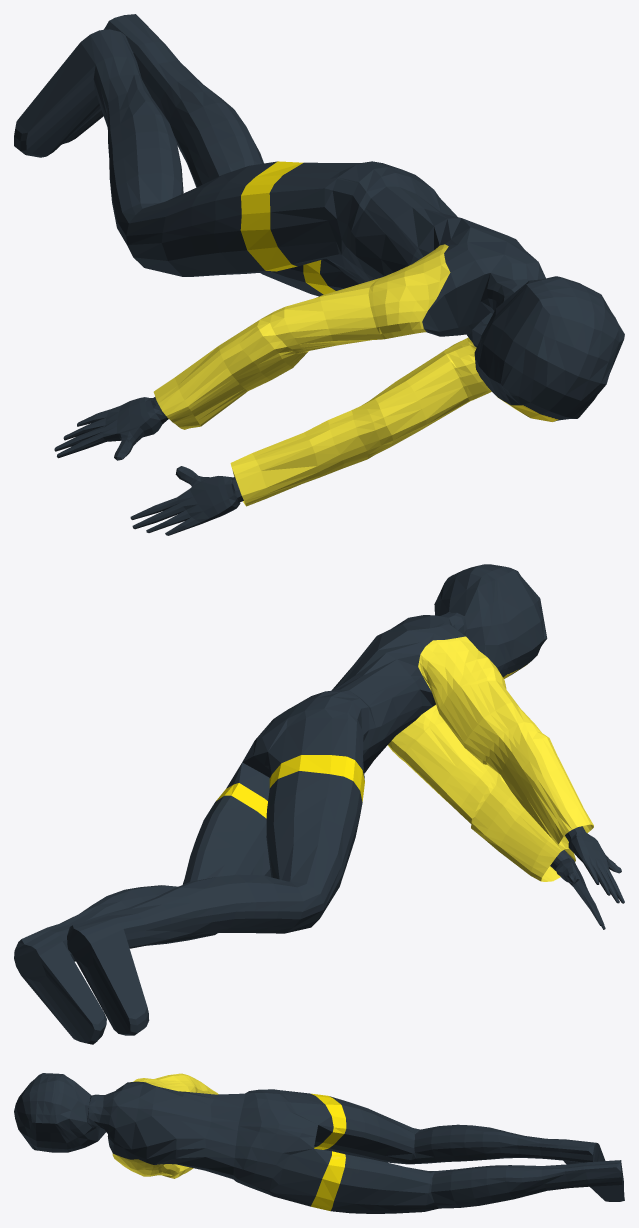
Rendered from Sentry_Die_000013.obj.
3 renders of one model, top to bottom at view 1: azimuth 30°, elevation 25°; view 2: azimuth 150°, elevation 25°; view 3: azimuth 270°, elevation 25°, orthographic. The views are drawn at different scales.
Visible parts, largest first — view 1: Cube; view 2: Cube; view 3: Cube.
Boxes of the visible parts, left/top/right/bottom form: Cube: left=14, top=14, right=624, bottom=535; Cube: left=14, top=564, right=624, bottom=1044; Cube: left=14, top=1073, right=624, bottom=1213.
Bounding box in the file's own units: 1.74 × 1.1 × 3.83.
